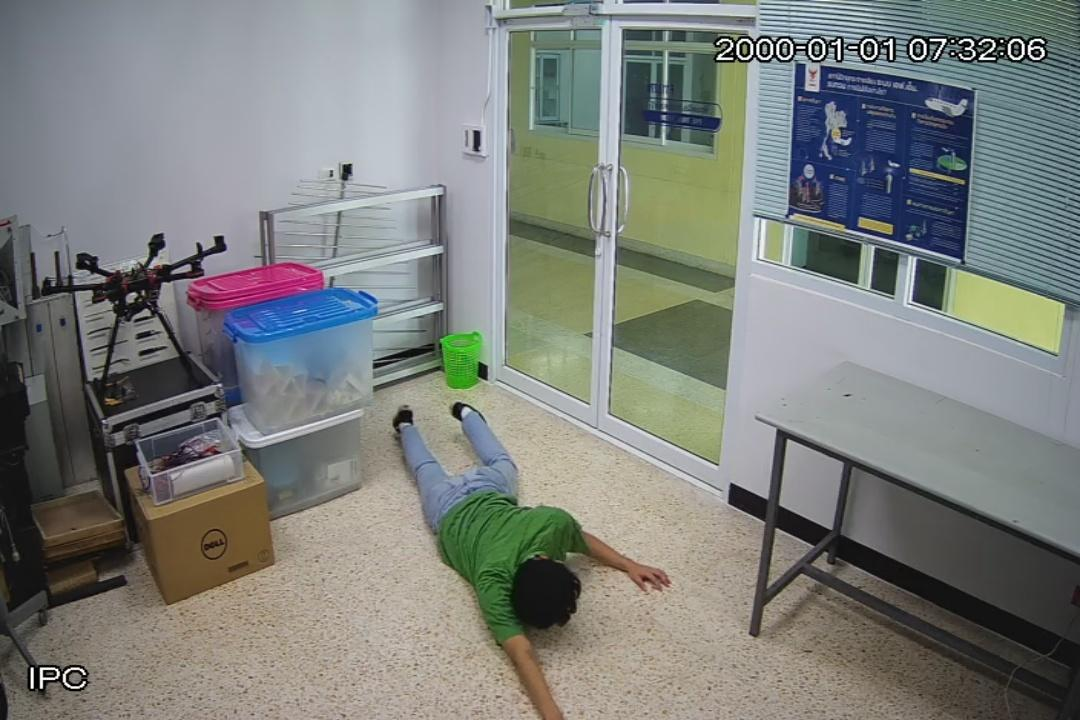fall: (386, 388, 678, 716)
